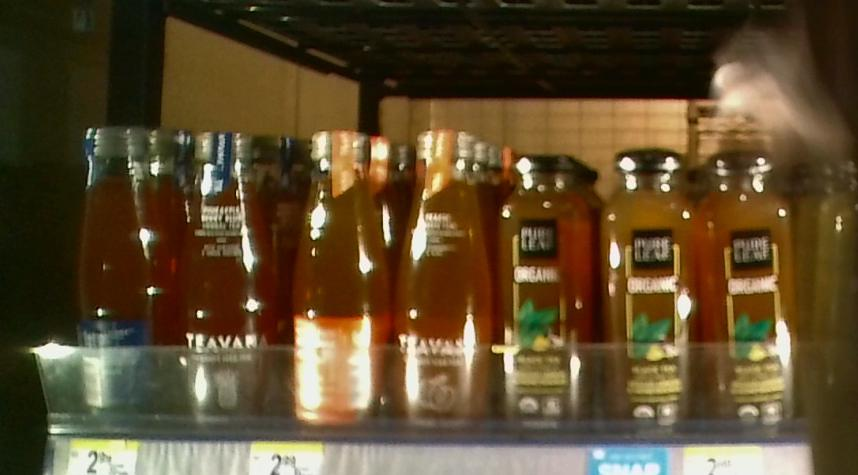bottle: (65, 99, 168, 421), (392, 126, 500, 421), (174, 121, 278, 426), (694, 146, 795, 439), (294, 126, 387, 426), (503, 135, 600, 422), (609, 143, 694, 435)
